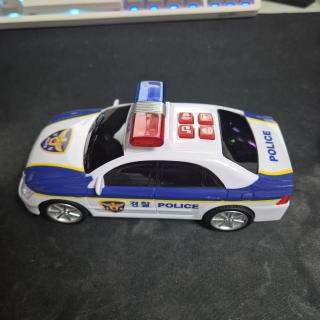Police_car: (18, 81, 293, 231)
